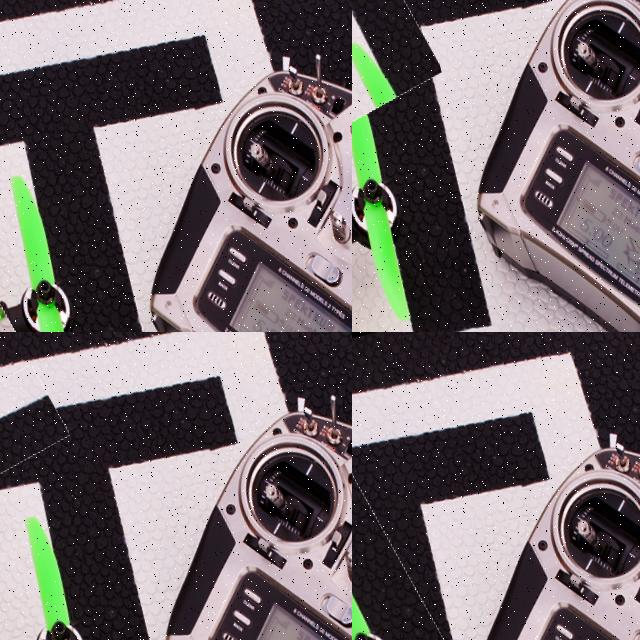0: (0, 366, 71, 486)
drone: (352, 350, 545, 640), (352, 0, 443, 225)
